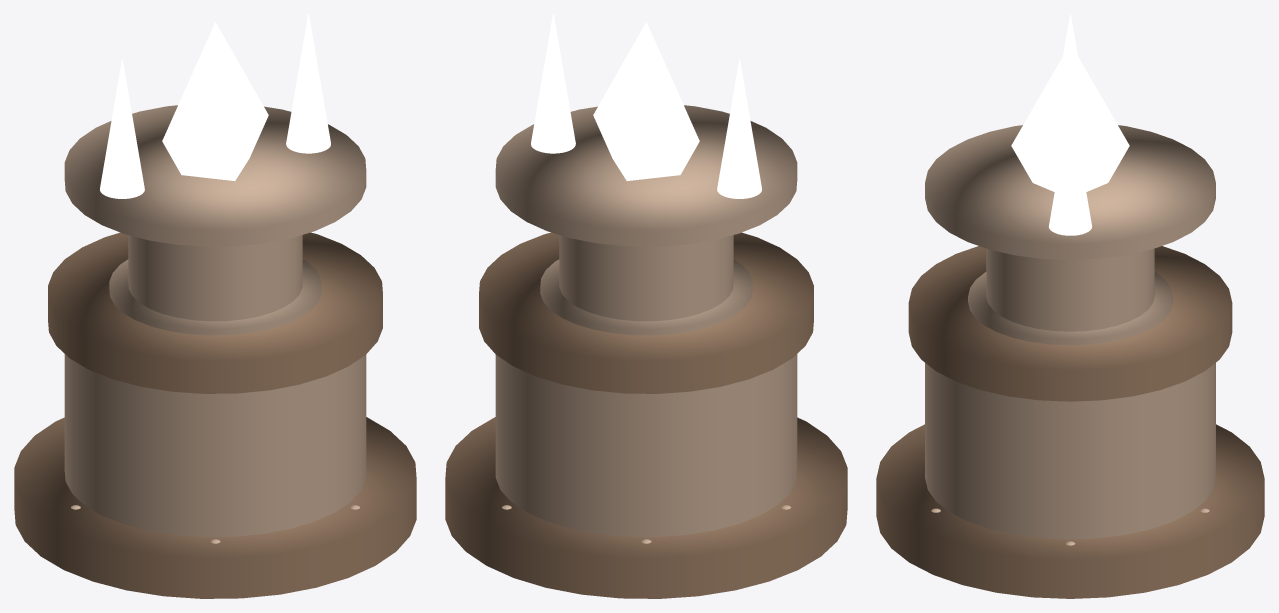
File: ice_l3.glb
3 renders of one model, left to right at view 1: azimuth 30°, elevation 25°; view 2: azimuth 150°, elevation 25°; view 3: azimuth 270°, elevation 25°, orthographic. The views are drawn at different scales.
Parts seen in each view (by area): view 1: base, footing, baseCollar, spinRing, shaft, spinCrystal, lowerTrim, iceShardR, iceShardL; view 2: base, footing, baseCollar, spinRing, shaft, spinCrystal, lowerTrim, iceShardR, iceShardL; view 3: base, footing, baseCollar, spinRing, shaft, spinCrystal, lowerTrim, iceShardR.
Part boxes in pixels (x1,y1,x2,y2): base: (64,354,366,536); footing: (14,417,416,598); baseCollar: (48,232,382,393); spinRing: (64,105,366,246); shaft: (128,235,302,321); spinCrystal: (162,22,268,180); lowerTrim: (109,259,321,335); iceShardR: (286,14,330,153); iceShardL: (100,59,144,198); base: (495,354,797,536); footing: (445,417,847,598); baseCollar: (479,232,813,393); spinRing: (495,105,797,246); shaft: (559,235,733,321); spinCrystal: (593,22,699,180); lowerTrim: (540,259,752,335); iceShardR: (531,14,575,153); iceShardL: (717,59,761,198); base: (925,363,1215,539); footing: (876,424,1264,598); baseCollar: (908,246,1232,401); spinRing: (925,125,1215,259); shaft: (986,248,1154,331); spinCrystal: (1011,43,1129,191); lowerTrim: (968,272,1172,345); iceShardR: (1048,101,1092,235).
Bounding box in the file's own units: 1.8 × 2.42 × 1.8.
